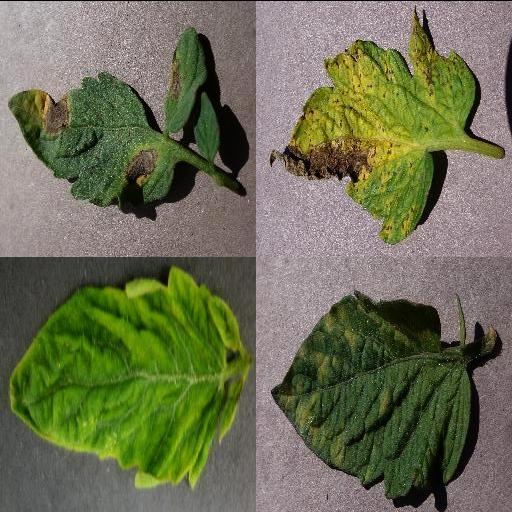Early Blight: (6, 72, 172, 212)
Leaf Mold: (270, 291, 472, 499)
Septoria: (268, 5, 478, 242)
Yellow Leaf Curl Virus: (8, 263, 254, 487)
